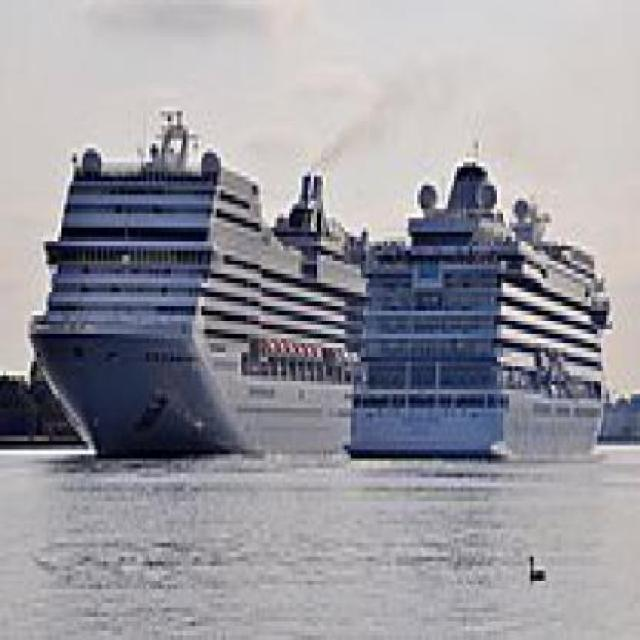cruise: (16, 99, 388, 460), (340, 131, 623, 474)
